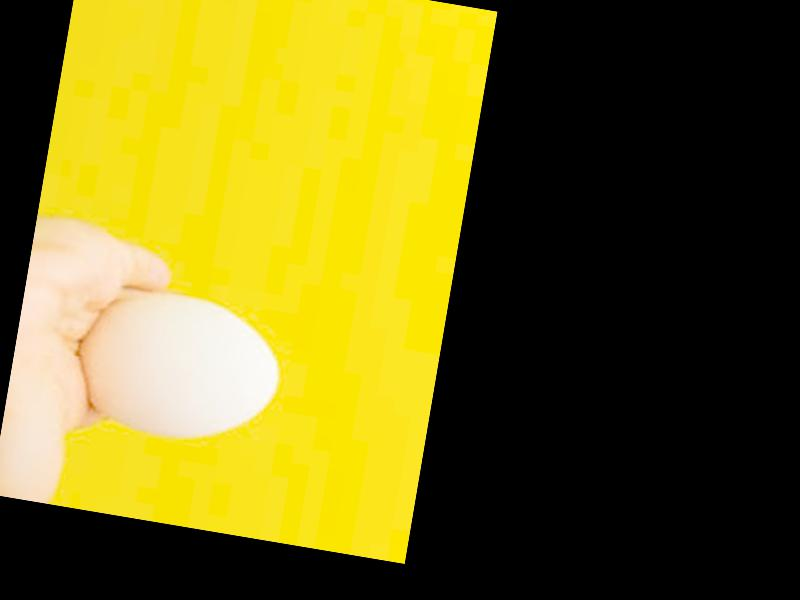Eggs: (71, 282, 290, 447)
